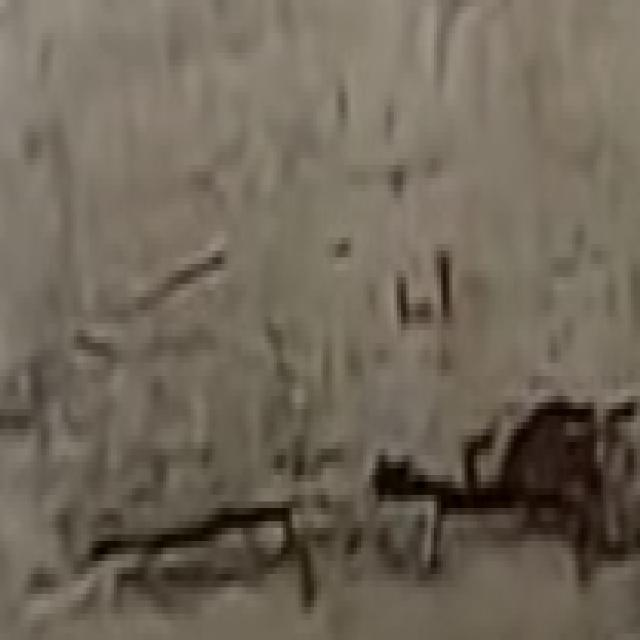crack: (385, 403, 585, 568), (89, 442, 283, 600)
